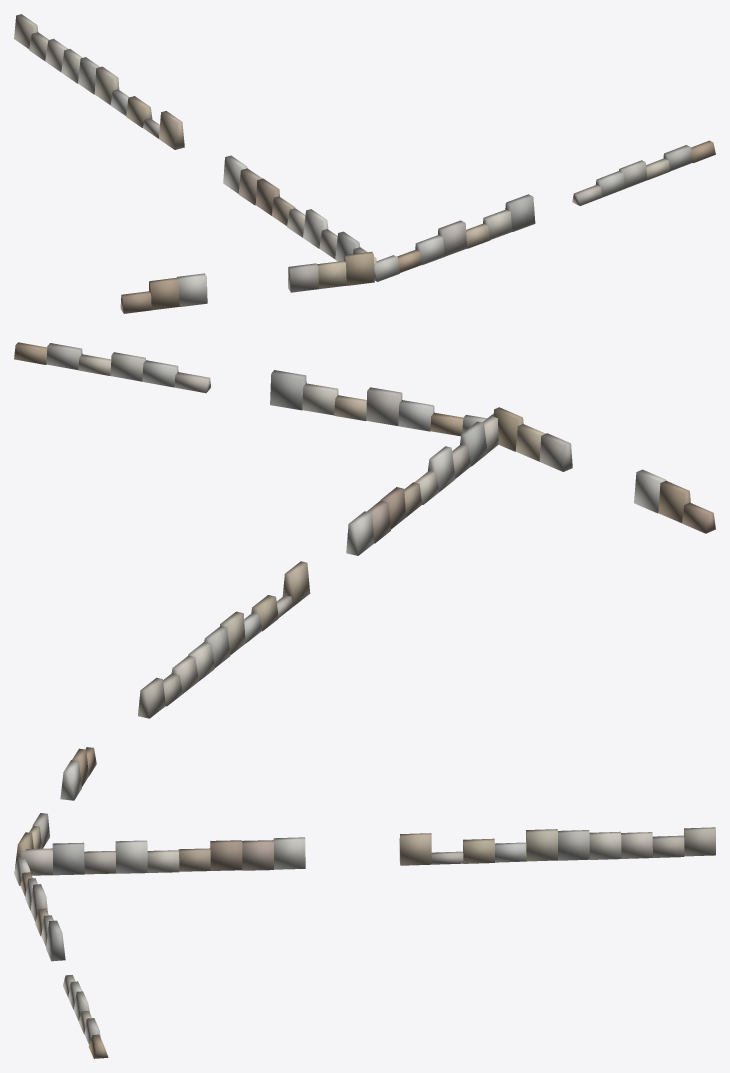
File: farm_-35_-28_collision.glb
The picture shows the model from 3 angles, top to bottom: view 1: azimuth 30°, elevation 25°; view 2: azimuth 150°, elevation 25°; view 3: azimuth 270°, elevation 25°; orthographic projection. The views are drawn at different scales.
Parts seen in each view (by area): view 1: geometry_0; view 2: geometry_0; view 3: geometry_0.
Part boxes in pixels (<box>): geometry_0: <box>14,14,715,313</box>; geometry_0: <box>14,342,715,718</box>; geometry_0: <box>14,747,715,1058</box>.
Size of the model in its own units: 36.26 by 1.93 by 35.05.
